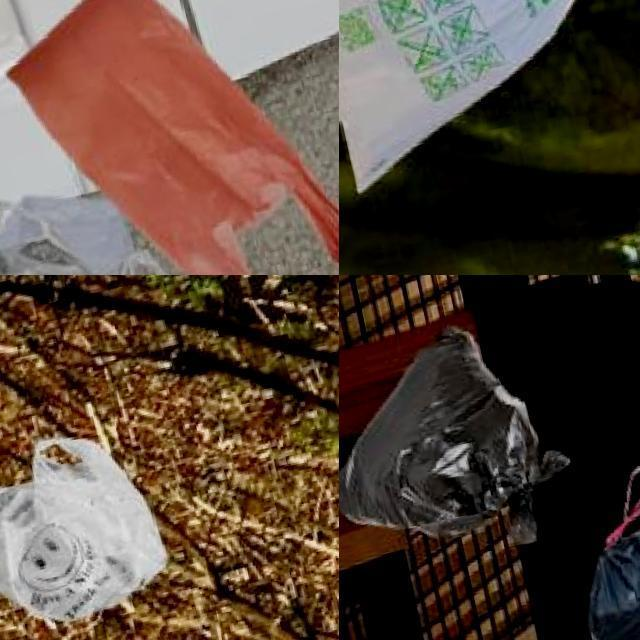waste: (0, 0, 339, 275), (339, 0, 640, 208), (339, 307, 576, 555), (0, 416, 183, 640), (0, 182, 228, 275)
